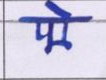e_matra: (45, 2, 76, 16)
